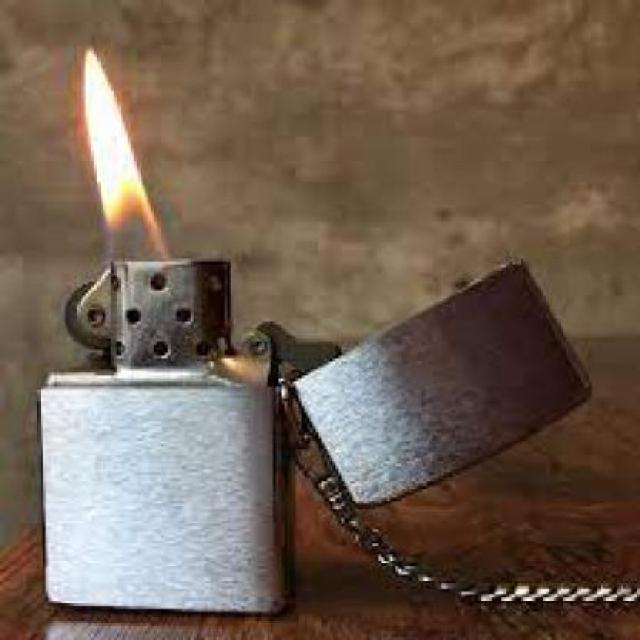Fire: (77, 45, 173, 262)
